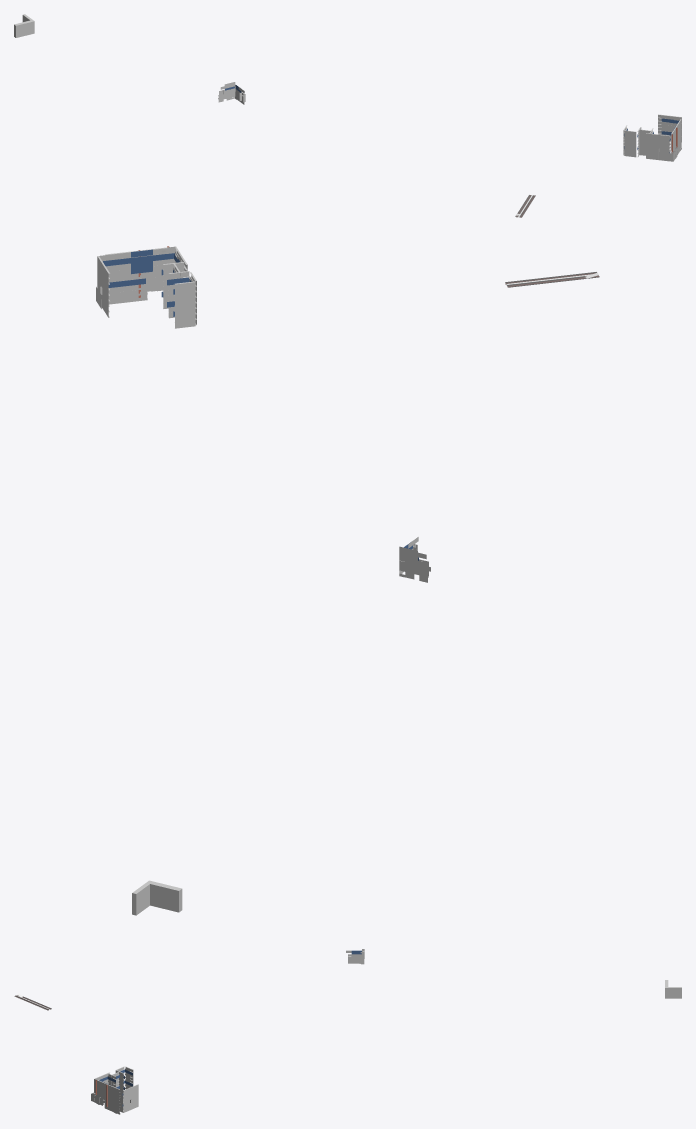
Rendered from buildings_Collision.dae.
The picture shows the model from 3 angles, top to bottom: view 1: azimuth 30°, elevation 25°; view 2: azimuth 150°, elevation 25°; view 3: azimuth 270°, elevation 25°; orthographic projection. The views are drawn at different scales.
Visible parts, largest first — view 1: Colmesh-1; view 2: Colmesh-1; view 3: Colmesh-1.
Boxes of the visible parts, x1,y1,x2,y2 form: Colmesh-1: (14, 14, 681, 217); Colmesh-1: (96, 246, 599, 915); Colmesh-1: (14, 949, 681, 1114).
Size of what is drawn, in the model's own units: 415 by 766 by 77.87.
